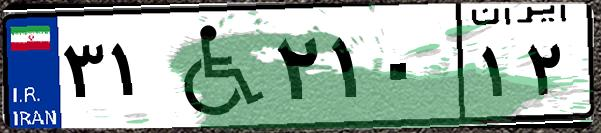0: (385, 28, 445, 110)
1: (330, 28, 385, 110), (475, 38, 525, 113), (110, 28, 158, 98)
2: (270, 28, 330, 110), (525, 38, 570, 115)
3: (57, 26, 110, 100)
ژ (معلولین و جانبازان): (158, 12, 270, 120)
